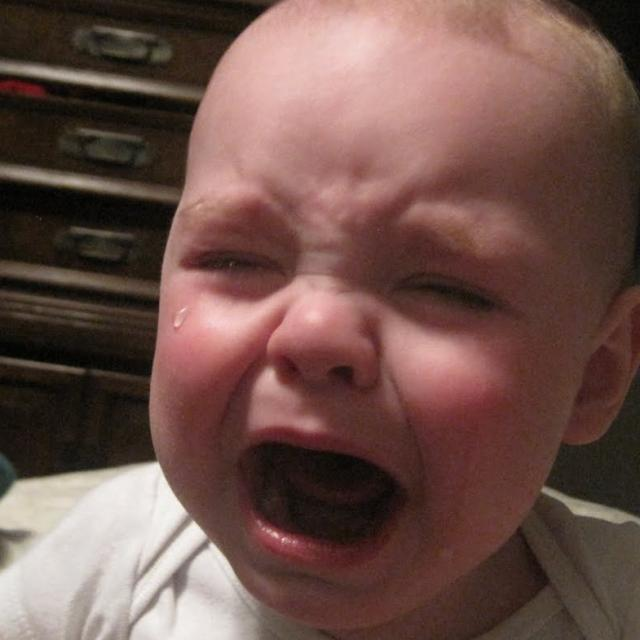Depress: (150, 5, 616, 629)
